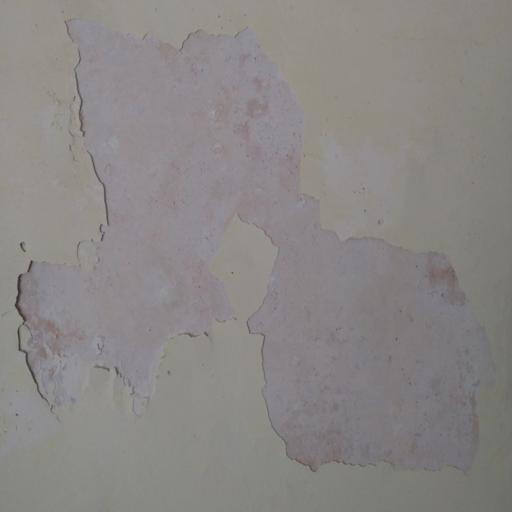peeling: (0, 0, 500, 490)
